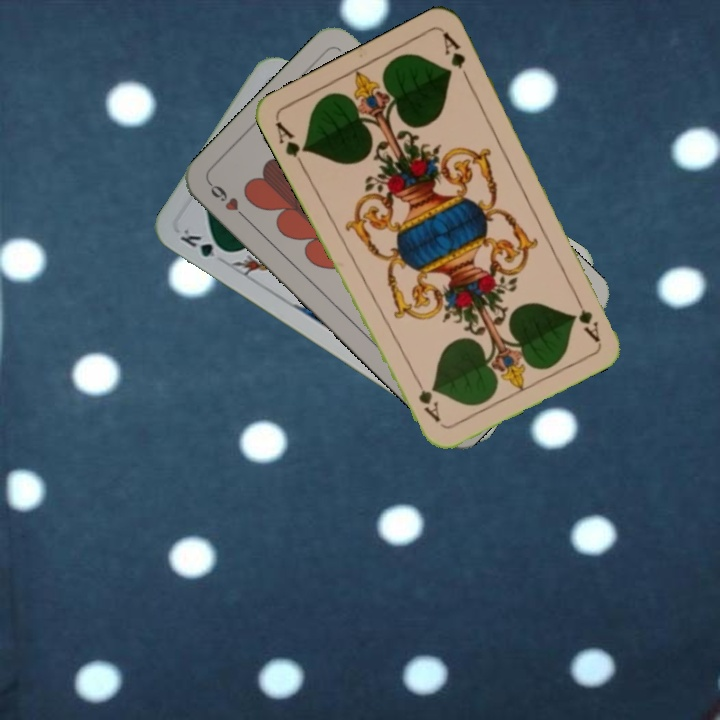GA: (271, 117, 310, 171), (569, 288, 603, 344)
GK: (176, 224, 232, 263)
H9: (205, 178, 252, 224)
